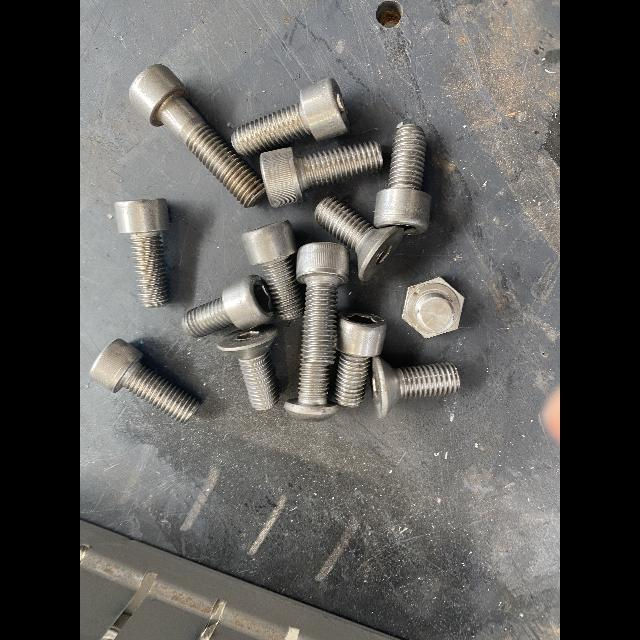Stainless Steel: (129, 65, 265, 207), (232, 76, 347, 156), (90, 339, 199, 422), (260, 142, 384, 209), (315, 197, 405, 281), (297, 242, 350, 364), (374, 125, 431, 236), (243, 221, 303, 321), (115, 199, 170, 307), (182, 275, 276, 337), (372, 357, 460, 419), (217, 324, 279, 411), (334, 311, 388, 407), (402, 277, 465, 338), (287, 363, 336, 420)
